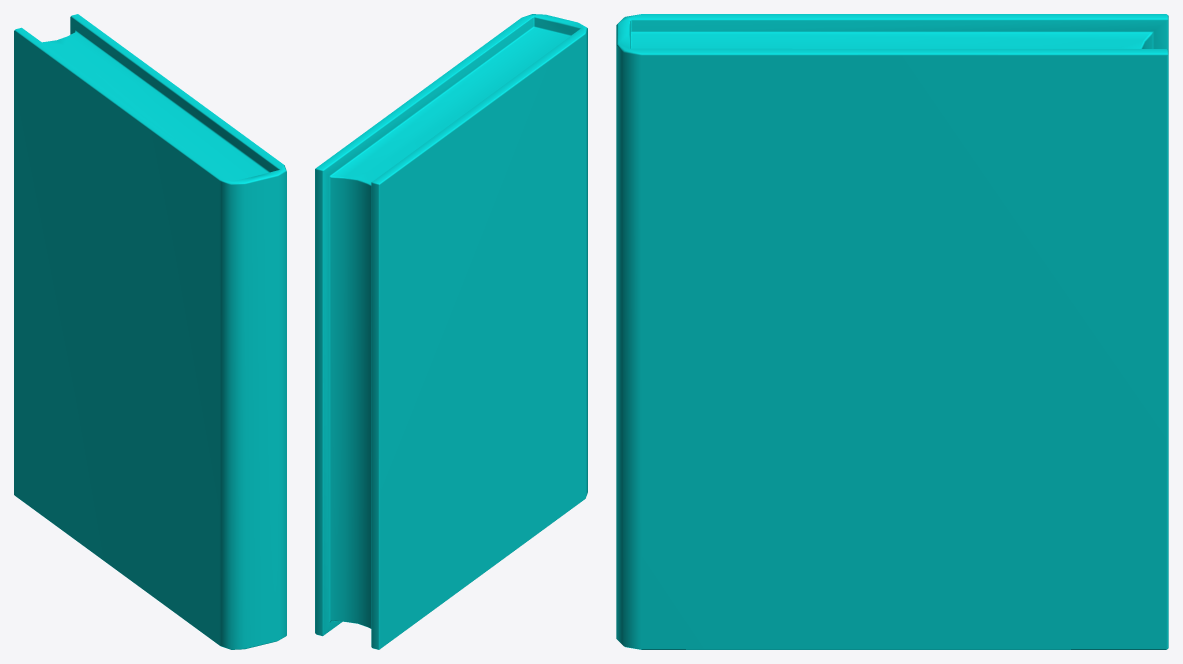
File: Story_1_Bedroom_Book_M.fbx
The picture shows the model from 3 angles, left to right: view 1: azimuth 30°, elevation 25°; view 2: azimuth 150°, elevation 25°; view 3: azimuth 270°, elevation 25°; orthographic projection. The views are drawn at different scales.
Visible parts, largest first — view 1: Book_M; view 2: Book_M; view 3: Book_M.
Boxes of the visible parts, x1=… form: Book_M: x1=14, y1=14, x2=286, y2=649; Book_M: x1=315, y1=14, x2=587, y2=649; Book_M: x1=616, y1=14, x2=1168, y2=649.
Bounding box in the file's own units: 1.71 × 11.71 × 9.81.
